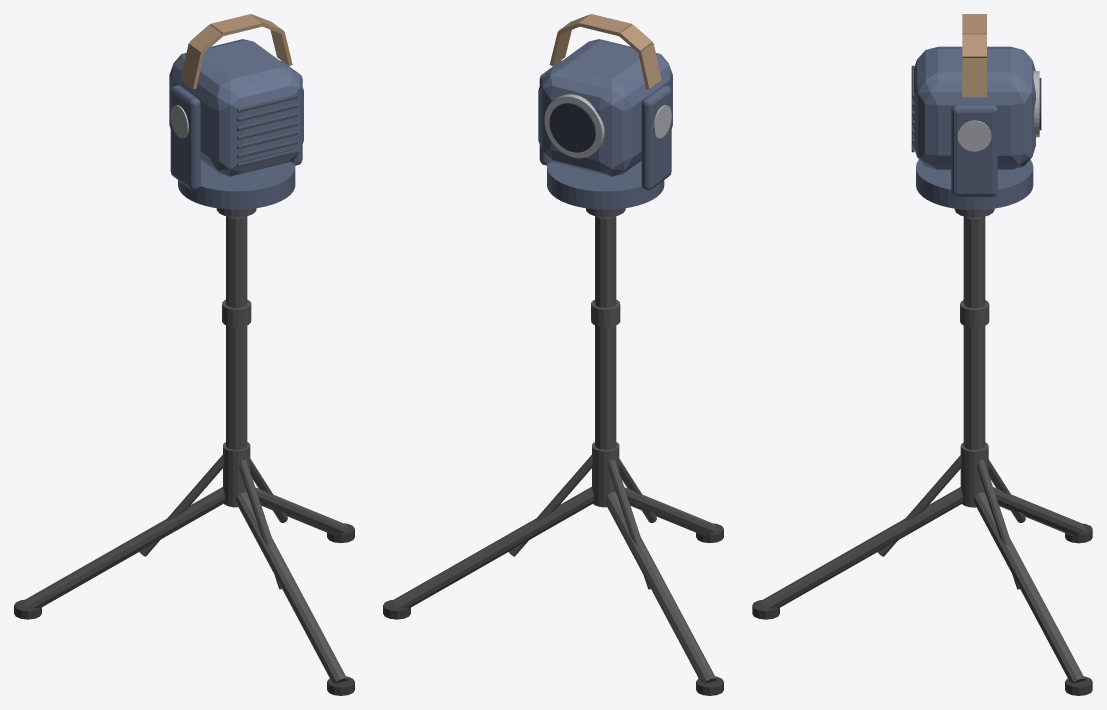
File: g_projector.glb
3 views of the same model, side by side, from view 1: azimuth 30°, elevation 25°; view 2: azimuth 150°, elevation 25°; view 3: azimuth 270°, elevation 25° (orthographic).
Visible parts, largest first — view 1: p20, p10, p15, p3, p0, p16, p6, p9, p1, p4, p30, p32 (+1 smaller); view 2: p20, p10, p15, p6, p3, p16, p22, p0, p21, p9, p4, p7 (+3 smaller); view 3: p20, p10, p18, p0, p15, p6, p3, p9, p34, p7, p19, p1 (+3 smaller).
Part boxes in pixels (x1=…): p20: x1=169, y1=39, x2=303, y2=176; p10: x1=226, y1=216, x2=247, y2=449; p15: x1=178, y1=160, x2=295, y2=209; p3: x1=24, y1=487, x2=224, y2=608; p0: x1=235, y1=492, x2=347, y2=683; p16: x1=170, y1=85, x2=200, y2=190; p6: x1=255, y1=487, x2=347, y2=535; p9: x1=223, y1=442, x2=250, y2=507; p1: x1=239, y1=459, x2=281, y2=589; p4: x1=139, y1=455, x2=223, y2=556; p30: x1=180, y1=43, x2=203, y2=88; p32: x1=210, y1=14, x2=262, y2=36; p20: x1=538, y1=39, x2=672, y2=176; p10: x1=595, y1=216, x2=616, y2=449; p15: x1=547, y1=160, x2=664, y2=209; p6: x1=393, y1=487, x2=594, y2=608; p3: x1=605, y1=492, x2=716, y2=683; p16: x1=641, y1=85, x2=671, y2=190; p22: x1=549, y1=103, x2=595, y2=152; p0: x1=624, y1=487, x2=716, y2=535; p21: x1=544, y1=94, x2=604, y2=158; p9: x1=592, y1=442, x2=619, y2=507; p4: x1=608, y1=459, x2=650, y2=589; p7: x1=509, y1=455, x2=592, y2=556; p20: x1=913, y1=46, x2=1035, y2=169; p10: x1=963, y1=216, x2=985, y2=449; p18: x1=951, y1=104, x2=997, y2=196; p0: x1=762, y1=487, x2=963, y2=608; p15: x1=916, y1=159, x2=1033, y2=209; p6: x1=973, y1=492, x2=1085, y2=683; p3: x1=993, y1=487, x2=1085, y2=535; p9: x1=960, y1=442, x2=988, y2=507; p34: x1=962, y1=58, x2=986, y2=97; p7: x1=977, y1=459, x2=1019, y2=589; p19: x1=957, y1=120, x2=991, y2=151; p1: x1=877, y1=455, x2=961, y2=556.
Size of the model in its own units: 0.5037 by 0.8425 by 0.441.
